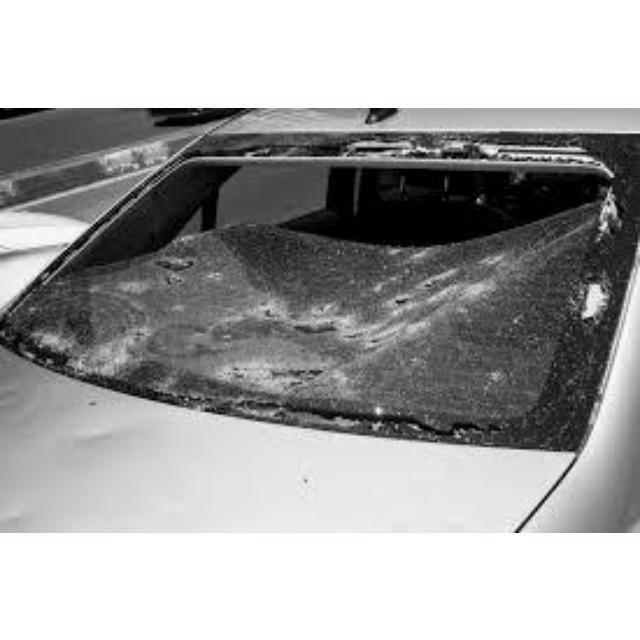Front-windscreen-damage: (5, 159, 612, 377)
